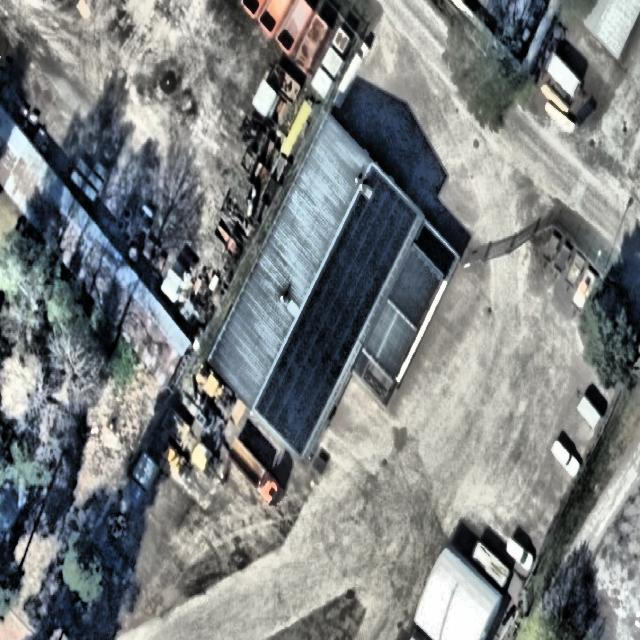roof_pv: (252, 362, 337, 455), (346, 167, 418, 245), (278, 334, 342, 421), (292, 296, 358, 378), (310, 255, 378, 332), (330, 224, 400, 290)
